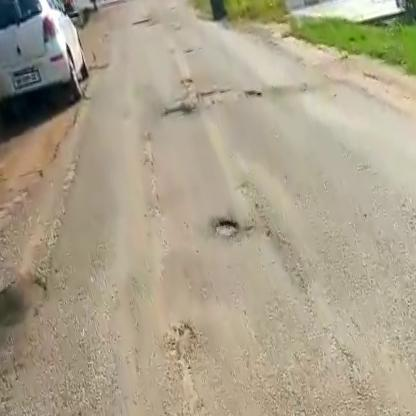pothole: (209, 208, 249, 244)
